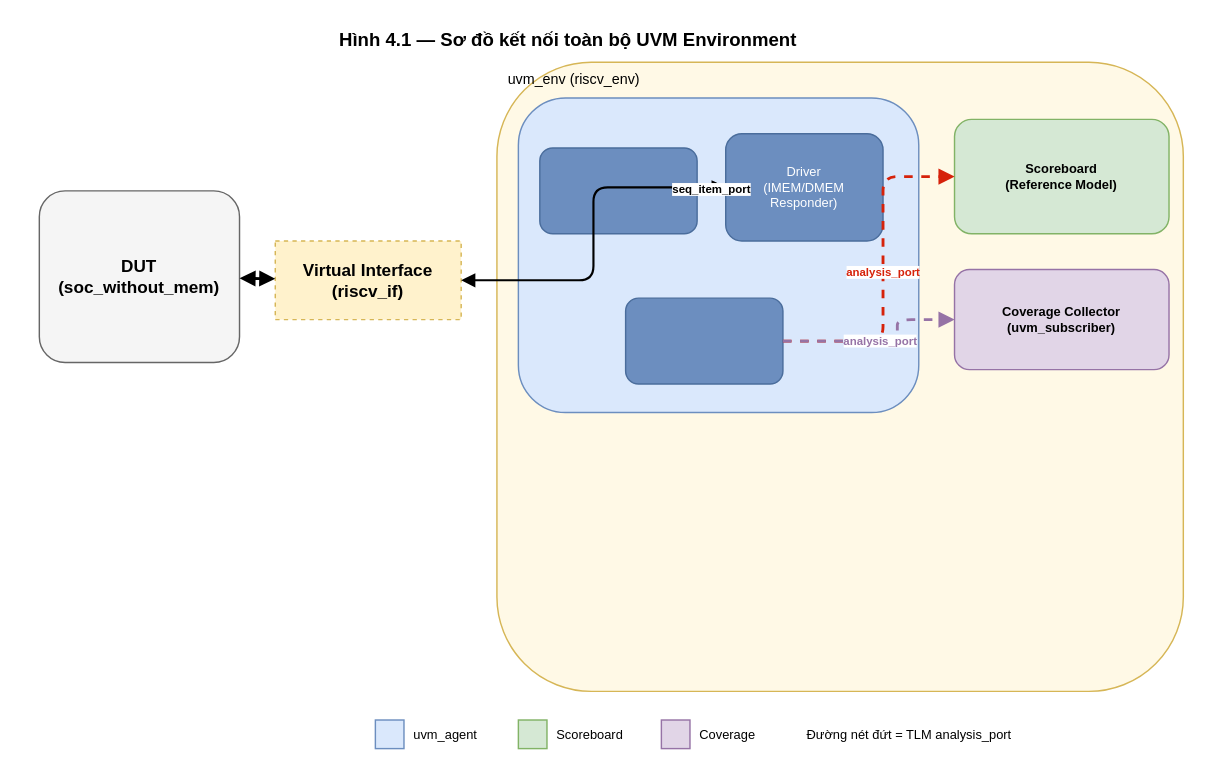
Image size: 1208x774. Some labels were removed from this diagram. Here are the shapes that lost their labels. From the top down, the box of each, then its label:
(538, 147, 697, 234): Sequencer (uvm_sequencer)
(517, 97, 919, 413): uvm_agent (riscv_agent)
(624, 297, 783, 384): Monitor (uvm_monitor)
